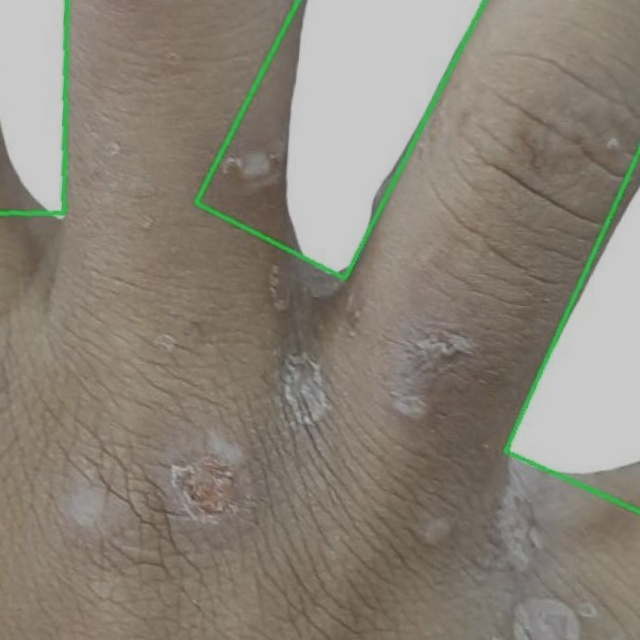Scabies: (195, 0, 485, 278), (498, 0, 639, 513)
